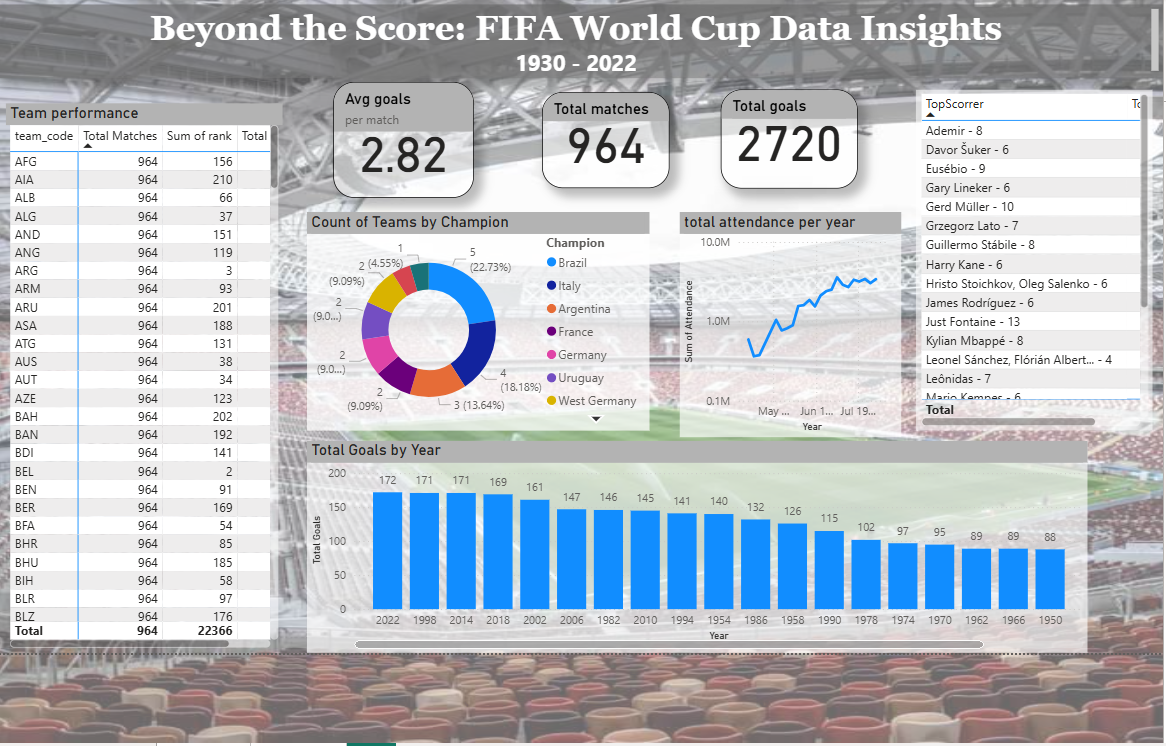

The dashboard page shown, as its layout file describes it:
{"tool":"powerbi","page":{"name":"Page 1","canvas":[1280,720],"ordinal":0},"visuals":[{"type":"card","title":"Total matches","fields":{"Values":["fifa_ranking_2022-10-06.Total Matches"]},"box":[598.6,104.3,140,105.7],"z":0},{"type":"textbox","box":[0,7.8,1280,81.1],"z":1000},{"type":"card","title":"Avg goals","fields":{"Values":["matches_1930_2022.Avg Goals"]},"box":[368.6,92.9,154.3,127.1],"z":2000},{"type":"card","title":"Total goals","fields":{"Values":["world_cup.Total Goals"]},"box":[794.3,101.4,150,108.6],"z":3000},{"type":"donutChart","fields":{"Y":["world_cup.Teams"],"Category":["world_cup.Champion"]},"box":[340,235.7,375.7,240],"z":4000},{"type":"columnChart","fields":{"Category":["matches_1930_2022.Year"],"Y":["world_cup.Total Goals"]},"box":[340,487.1,857.1,232.9],"z":5000},{"type":"pivotTable","title":"Team performance","fields":{"Rows":["fifa_ranking_2022-10-06.team_code"],"Values":["fifa_ranking_2022-10-06.Total Matches","fifa_ranking_2022-10-06.rank","world_cup.Total Goals"]},"box":[10,117.1,304.3,602.9],"z":6000},{"type":"tableEx","title":"Top scorrer","fields":{"Values":["world_cup.TopScorrer","world_cup.Total Goals"]},"box":[1008.6,101.4,260,374.3],"z":7000},{"type":"lineChart","title":"total attendance per year","fields":{"Category":["world_cup.Year.Variation.Date Hierarchy.Year","world_cup.Year.Variation.Date Hierarchy.Quarter","world_cup.Year.Variation.Date Hierarchy.Month","world_cup.Year.Variation.Date Hierarchy.Day"],"Y":["world_cup.Attendance"]},"box":[748.6,235.7,242.9,247.1],"z":8000}]}

Visuals, with their boxes on the page's 1280x720 design canvas (x1, y1, x2, y2). These are canvas units, not pixel positions in the 1166x746 screenshot, which may show the page scaled, cropped or inside an application window:
"Total matches" card: region(599, 104, 739, 210)
textbox: region(0, 8, 1280, 89)
"Avg goals" card: region(369, 93, 523, 220)
"Total goals" card: region(794, 101, 944, 210)
donutChart - world_cup.Teams x world_cup.Champion: region(340, 236, 716, 476)
columnChart - matches_1930_2022.Year x world_cup.Total Goals: region(340, 487, 1197, 720)
"Team performance" pivotTable: region(10, 117, 314, 720)
"Top scorrer" tableEx: region(1009, 101, 1269, 476)
"total attendance per year" lineChart: region(749, 236, 992, 483)
